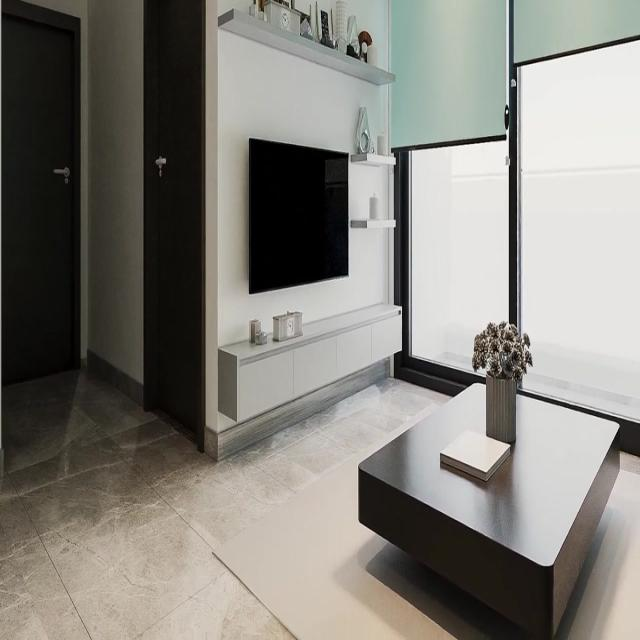door: (1, 0, 81, 386), (146, 0, 207, 447)
obstacle: (358, 381, 620, 638), (218, 303, 402, 424)
